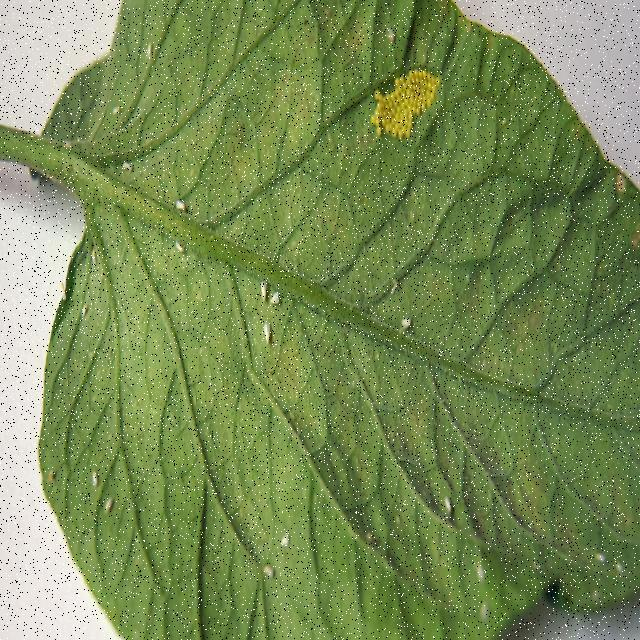Whiteflies: (173, 176, 205, 230), (173, 222, 198, 272), (392, 304, 420, 347), (80, 458, 107, 501), (257, 309, 282, 354), (254, 260, 273, 316), (275, 510, 297, 555), (439, 490, 460, 534), (267, 277, 290, 316), (84, 228, 103, 273), (104, 490, 125, 526), (72, 294, 95, 322), (120, 149, 140, 180), (385, 21, 400, 46)
